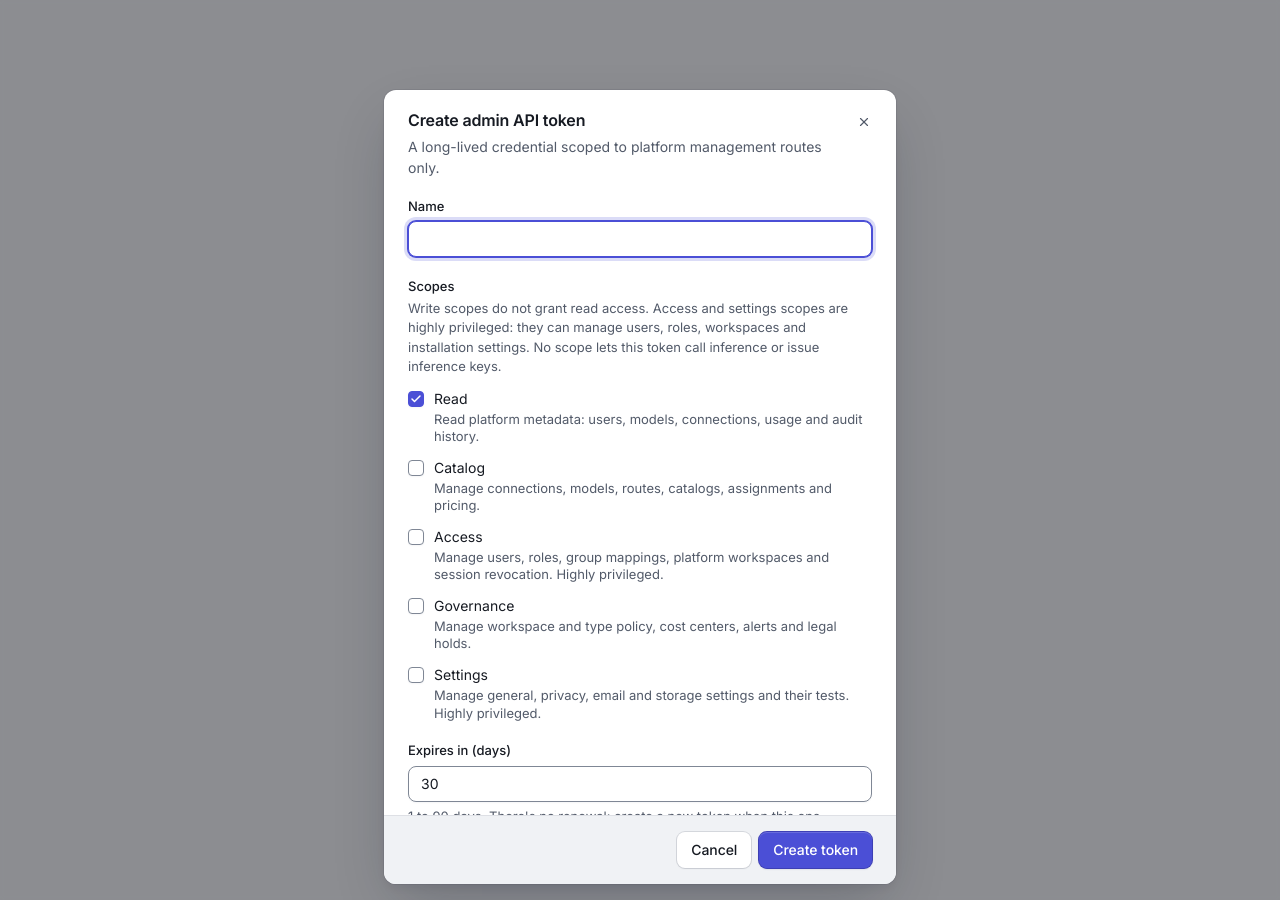
Scenario: CreateAdminTokenDialog submit lifetime › admits a fresh draft with the default scope, the 30-day default expiry and no allowlist
In the field labelled "Name": (640, 239) [408,221,872,257], type "CI publisher"
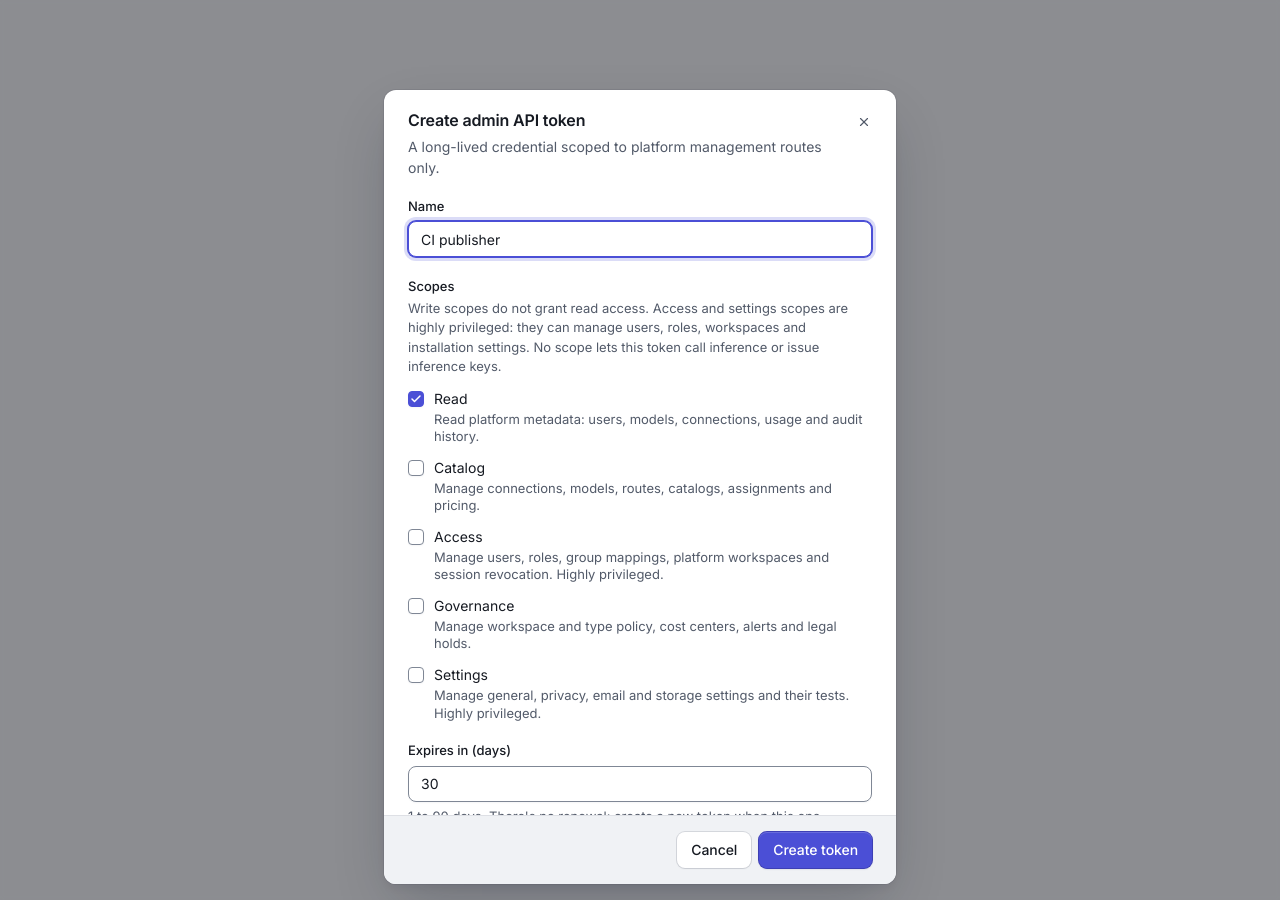
Click the button "Create token": (816, 850) [759,832,872,868]
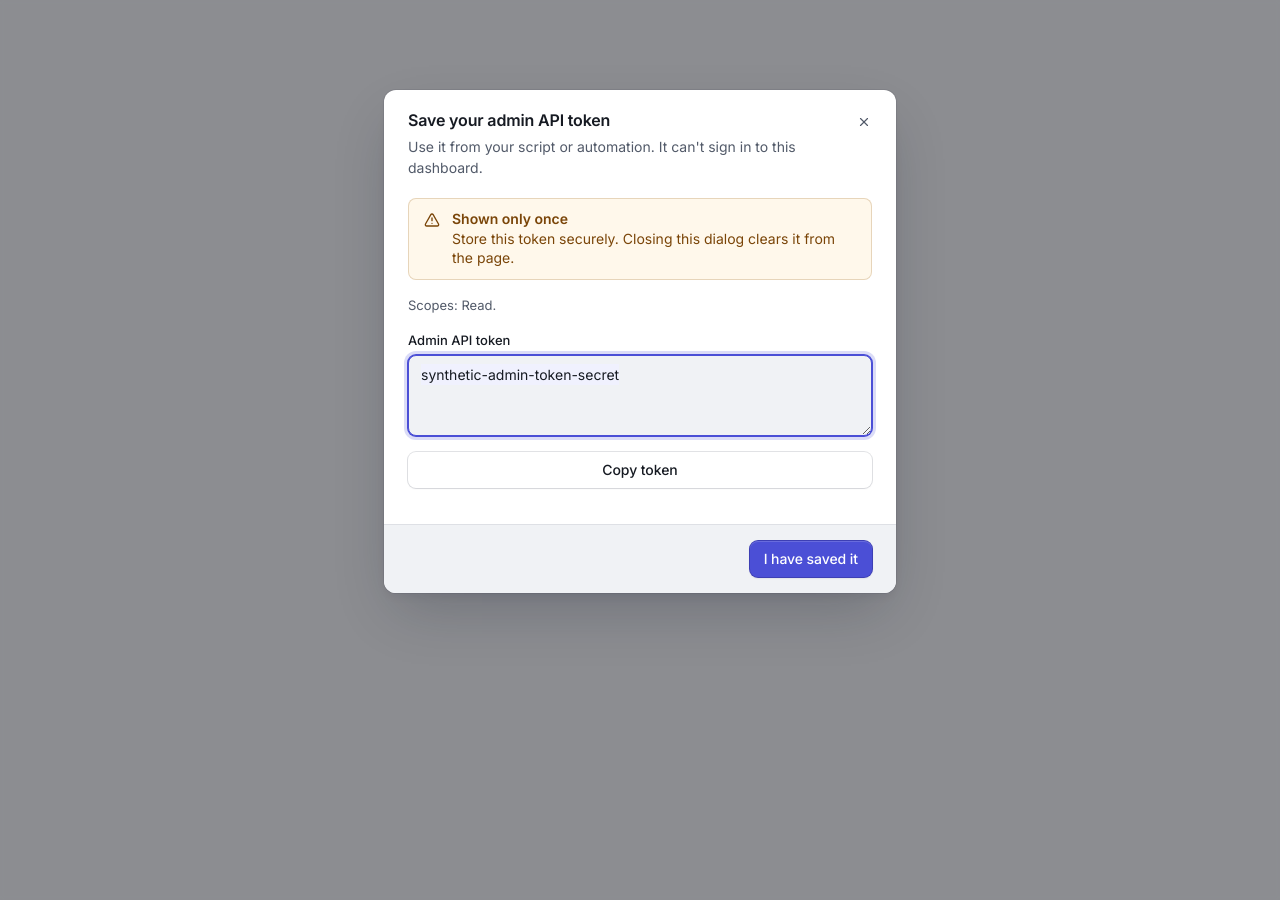
Expected: the text box labelled "Admin API token" holds "synthetic-admin-token-secret", [408,355,872,436]
Expected: the dialog shows "Shown only once", [452,210,568,227]
